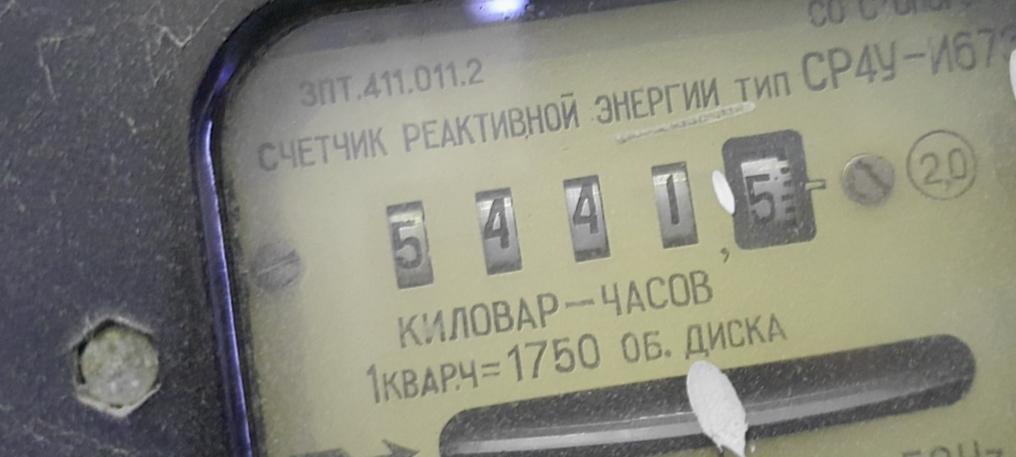1: (656, 171, 686, 231)
4: (562, 176, 606, 245), (475, 191, 517, 256)
5: (740, 166, 782, 232), (385, 215, 429, 276)
screen: (356, 104, 844, 321)
